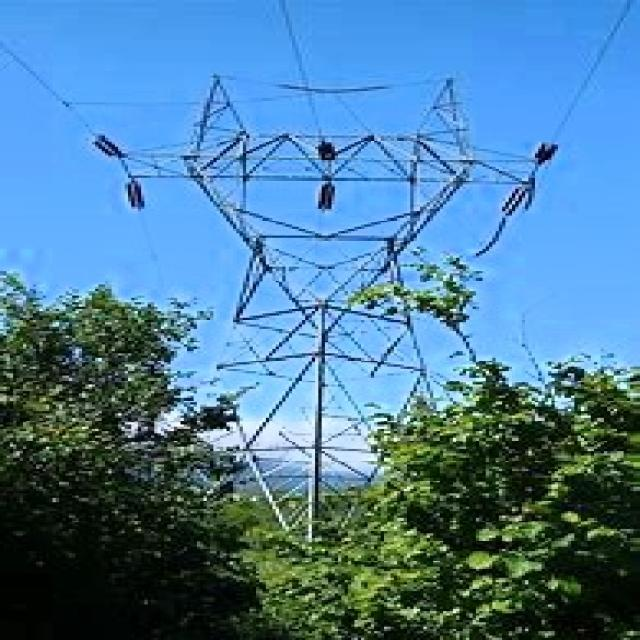utility poles: (336, 258, 564, 449), (147, 318, 283, 467)
